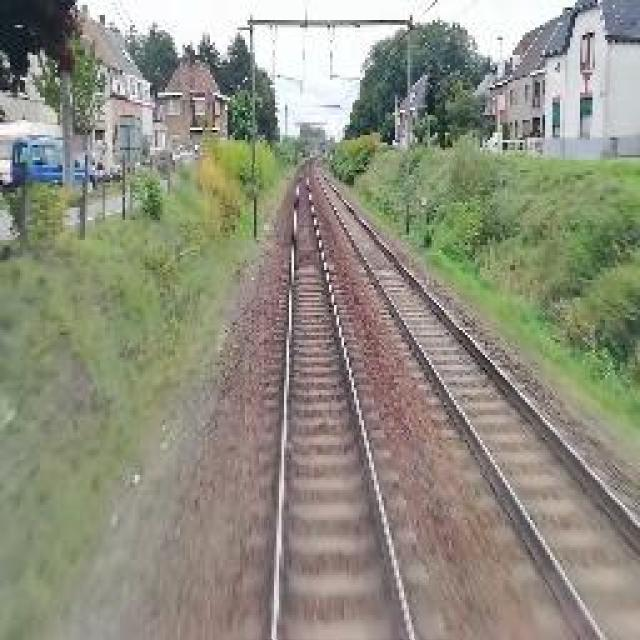rail: (247, 166, 461, 640)
